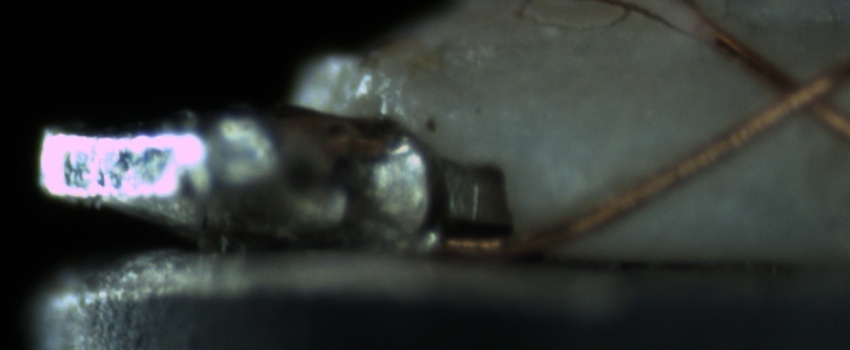CL: (751, 51, 843, 131)
